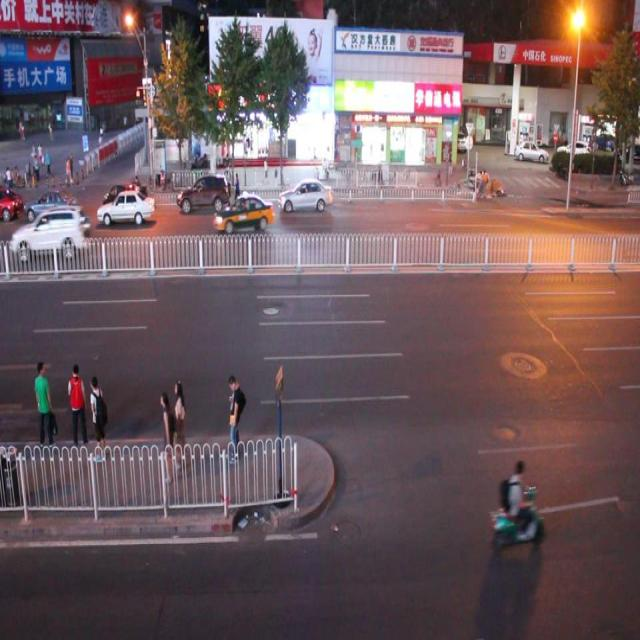car: (11, 205, 85, 260), (214, 190, 273, 233), (176, 171, 230, 211), (99, 188, 154, 226), (280, 176, 332, 213), (24, 188, 77, 220), (105, 179, 141, 216), (1, 186, 21, 221)
